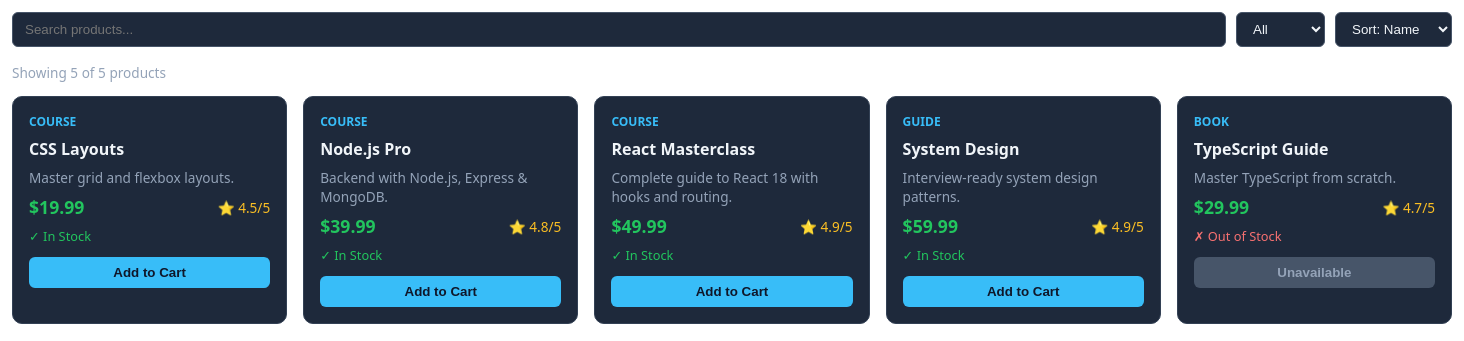
ProductList + ProductCard — Integration Tests › Search functionality › shows empty state when no search match
The width and height of the screenshot is (1464, 341).
In the field with test id "search-input": (619, 30) x1=12 y1=12 x2=1226 y2=47, type "xyzxyzxyz"
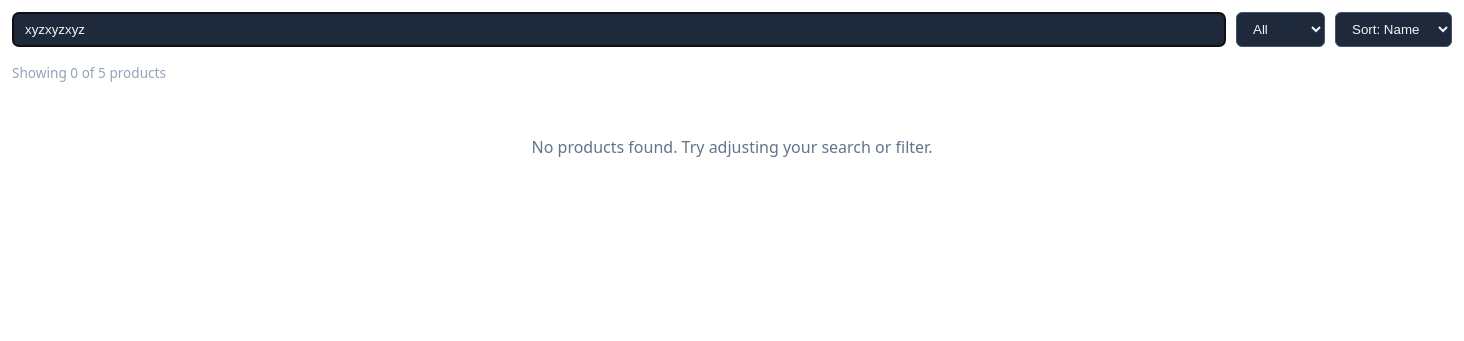
Check: the text "No products found. Try adjusting your search or filter." is shown, box x1=532 y1=136 x2=932 y2=158
